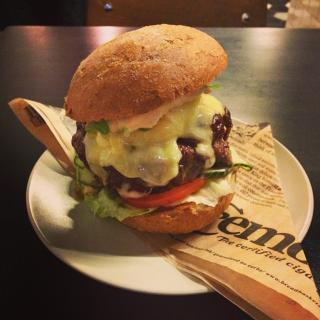Cheese: (81, 93, 227, 189)
Hamburger: (62, 26, 252, 234)
